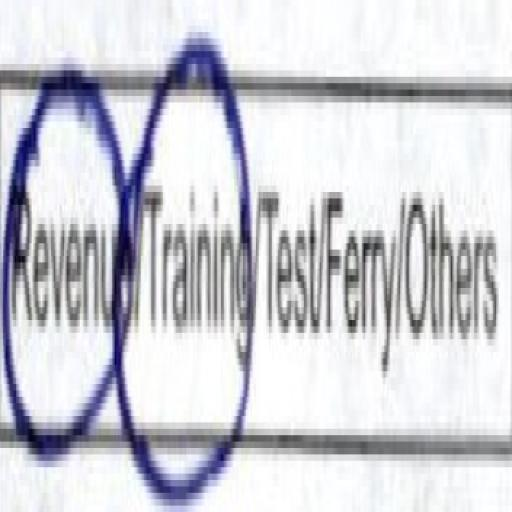check: (126, 0, 257, 512), (0, 13, 125, 512)
